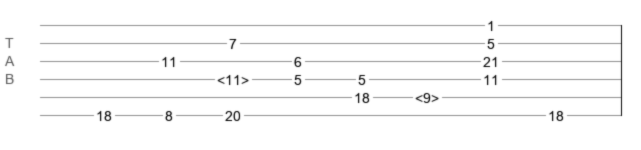1: (487, 18, 495, 28)
11: (161, 54, 177, 64), (483, 72, 499, 82)
18: (96, 108, 112, 118), (354, 90, 370, 100), (548, 108, 564, 118)
20: (225, 108, 241, 118)
21: (483, 54, 499, 64)
5: (294, 72, 302, 82), (358, 72, 366, 82), (487, 36, 495, 46)
6: (294, 54, 302, 64)
7: (229, 36, 237, 46)
8: (165, 108, 173, 118)
harmonic: (217, 72, 249, 82), (415, 90, 439, 100)
